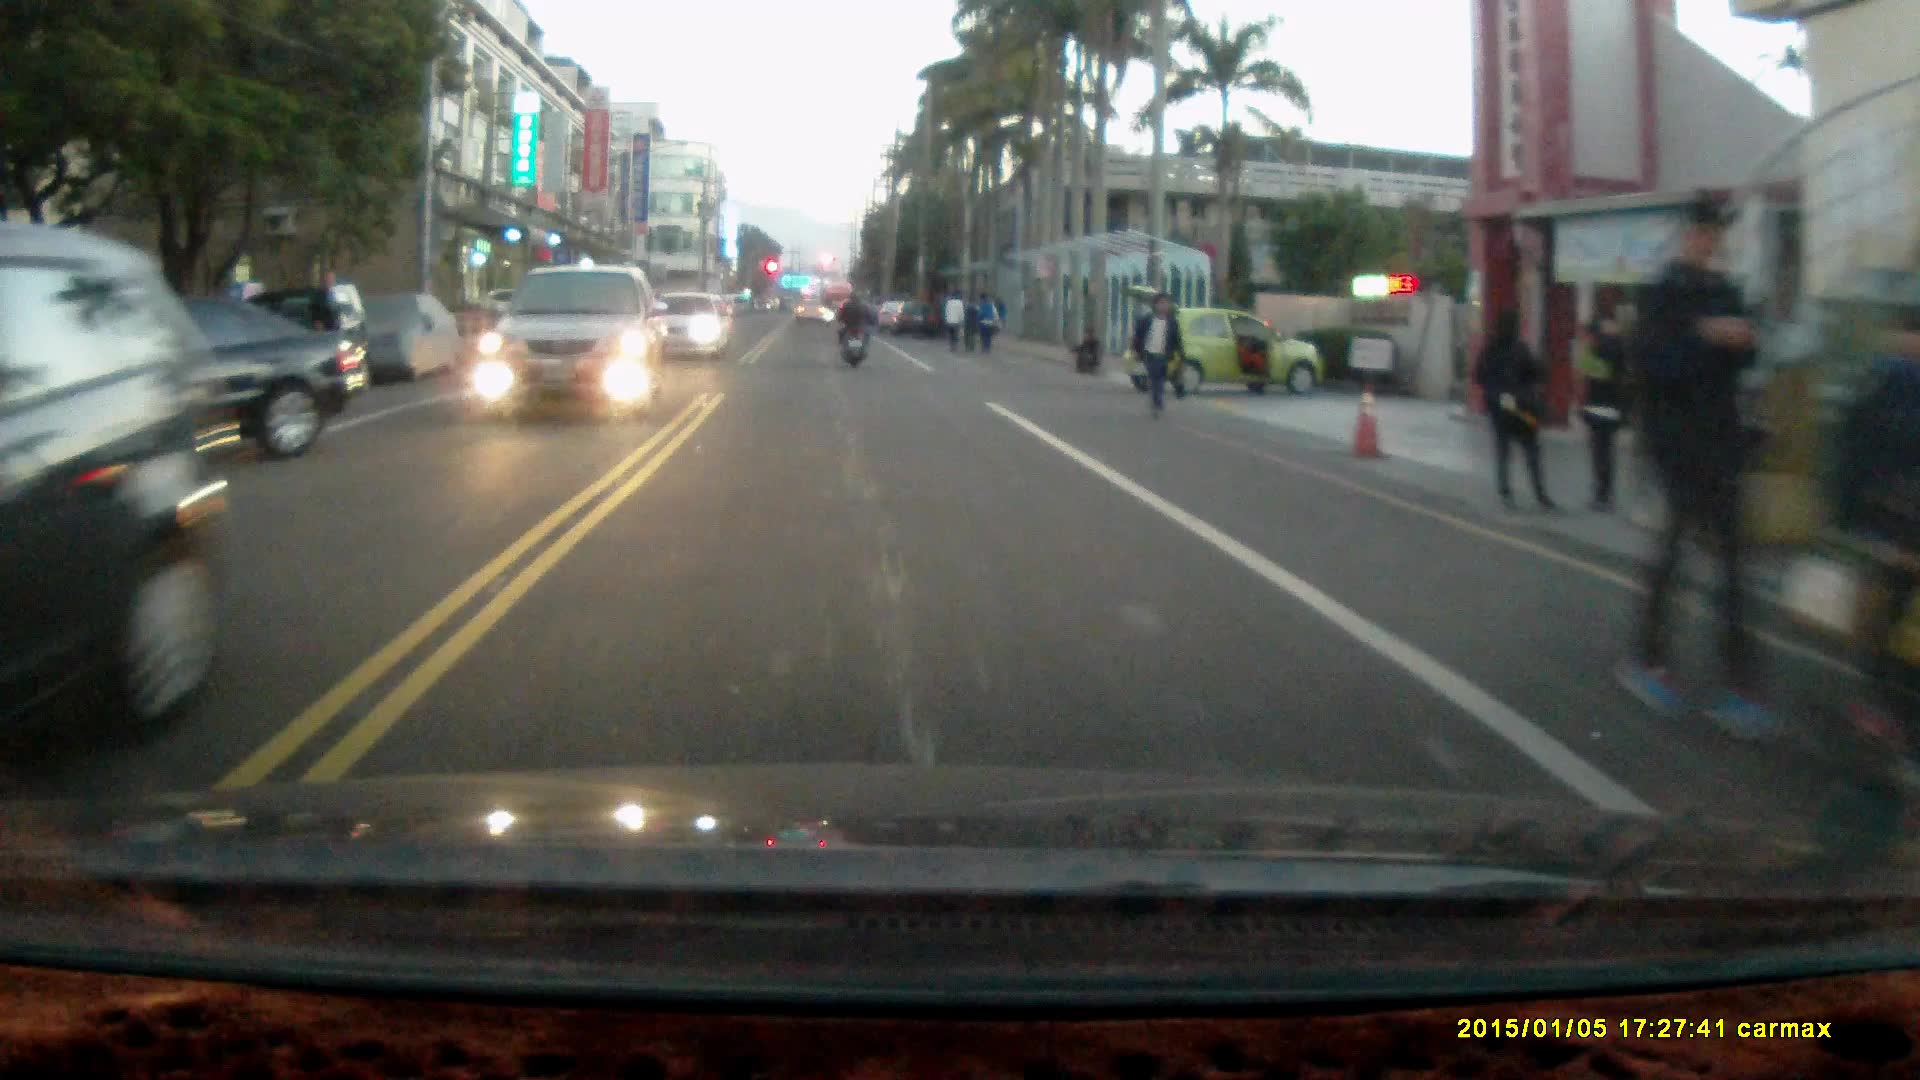pedestrian: (1623, 193, 1787, 751), (1475, 304, 1562, 515), (1580, 309, 1632, 514), (1126, 293, 1183, 423), (973, 291, 999, 357), (1071, 326, 1103, 373), (942, 289, 964, 354), (960, 296, 981, 355)
rider: (835, 289, 872, 369)
vehicle: (0, 289, 368, 475), (474, 266, 673, 417), (1123, 281, 1330, 397), (645, 293, 732, 362)
